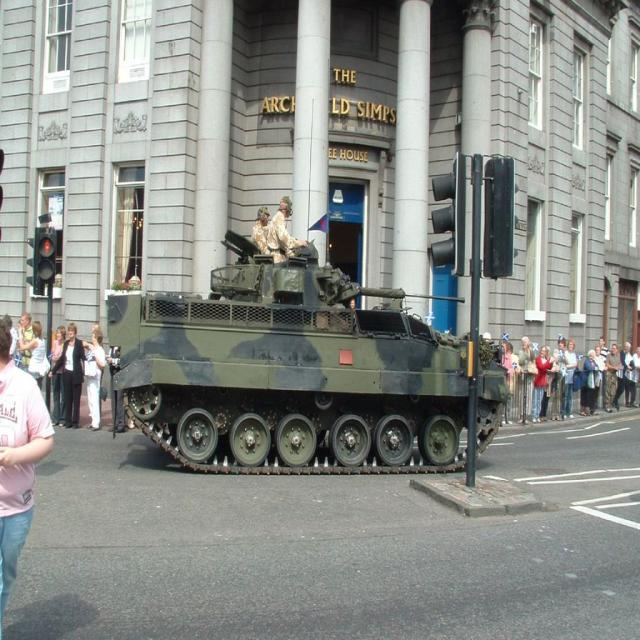tank: (107, 228, 514, 474)
